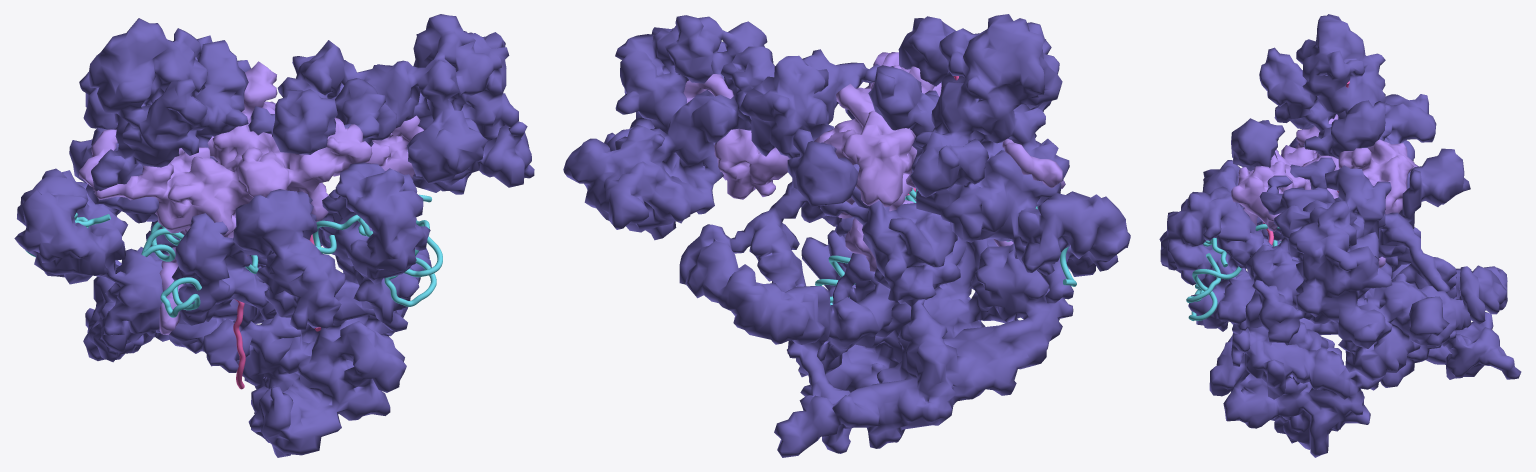
The model's file is spliceosome-5yzg.glb.
3 renders of one model, left to right at view 1: azimuth 30°, elevation 25°; view 2: azimuth 150°, elevation 25°; view 3: azimuth 270°, elevation 25°, orthographic. The views are drawn at different scales.
Parts seen in each view (by area): view 1: GEO-Splice-Shell, GEO-Splice-Prp8, GEO-Splice-snRNA, GEO-Splice-Substrate; view 2: GEO-Splice-Shell, GEO-Splice-Prp8, GEO-Splice-snRNA; view 3: GEO-Splice-Shell, GEO-Splice-Prp8, GEO-Splice-snRNA.
Part boxes in pixels (x1=…): GEO-Splice-Shell: x1=14, y1=14, x2=534, y2=457; GEO-Splice-Prp8: x1=79, y1=61, x2=423, y2=334; GEO-Splice-snRNA: x1=25, y1=194, x2=442, y2=317; GEO-Splice-Substrate: x1=233, y1=234, x2=321, y2=389; GEO-Splice-Shell: x1=563, y1=14, x2=1130, y2=457; GEO-Splice-Prp8: x1=683, y1=52, x2=1065, y2=271; GEO-Splice-snRNA: x1=815, y1=188, x2=1076, y2=305; GEO-Splice-Shell: x1=1159, y1=14, x2=1521, y2=457; GEO-Splice-Prp8: x1=1231, y1=114, x2=1418, y2=268; GEO-Splice-snRNA: x1=1186, y1=224, x2=1281, y2=320.
Size of the model in its own units: 7.01 by 6.06 by 5.32.
